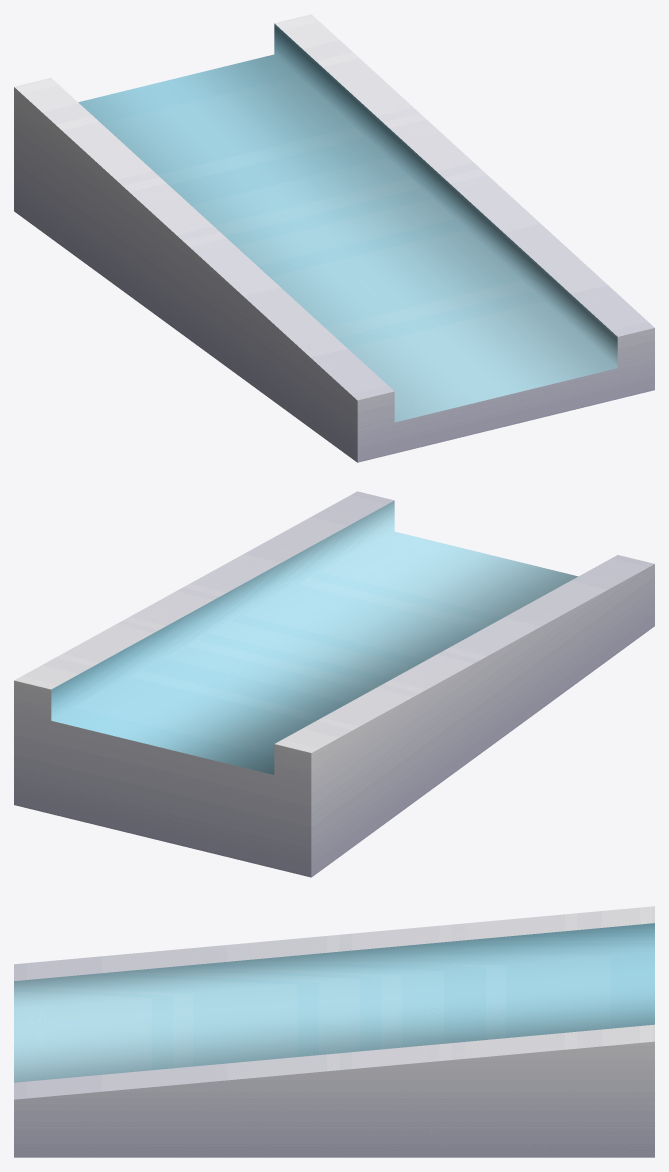
Rendered from tower-defense-kit--snow-tile-straight-slope-large.glb.
3 views of the same model, one above another, from view 1: azimuth 30°, elevation 25°; view 2: azimuth 150°, elevation 25°; view 3: azimuth 270°, elevation 25° (orthographic). The views are drawn at different scales.
Visible parts, largest first — view 1: snow-tile-straight-slope-large; view 2: snow-tile-straight-slope-large; view 3: snow-tile-straight-slope-large.
Part boxes in pixels (box(x1,y1,x2,y2)): snow-tile-straight-slope-large: box(14, 14, 654, 462); snow-tile-straight-slope-large: box(14, 491, 654, 877); snow-tile-straight-slope-large: box(14, 906, 654, 1157).
Size of the model in its own units: 1 by 0.4 by 2.
1 material, 1 textured.
